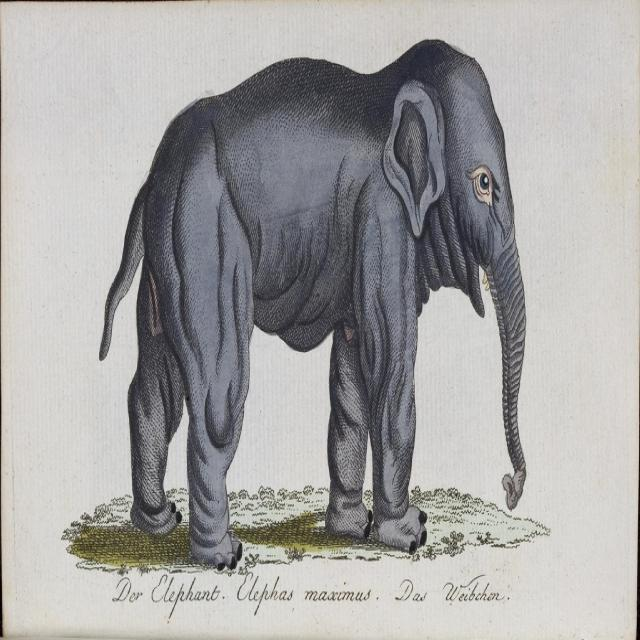Elephant: (100, 35, 532, 568)
